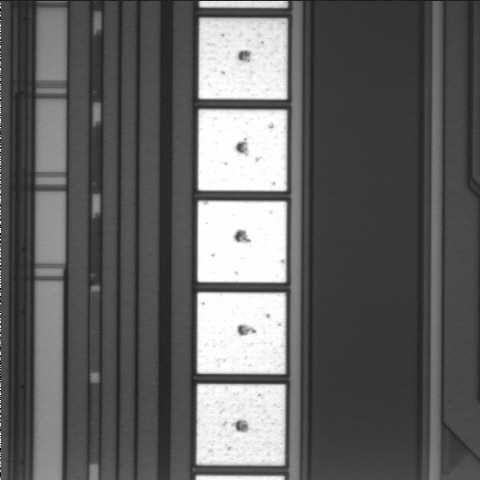pad: (198, 109, 287, 191), (198, 201, 287, 283), (197, 292, 286, 374), (196, 384, 285, 466), (199, 18, 287, 99)
